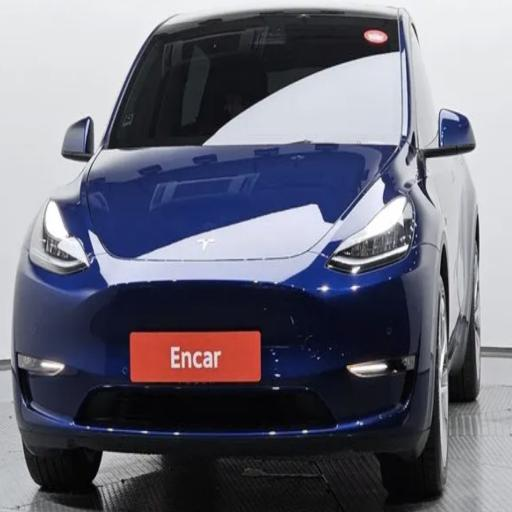normal: (9, 11, 512, 483)
